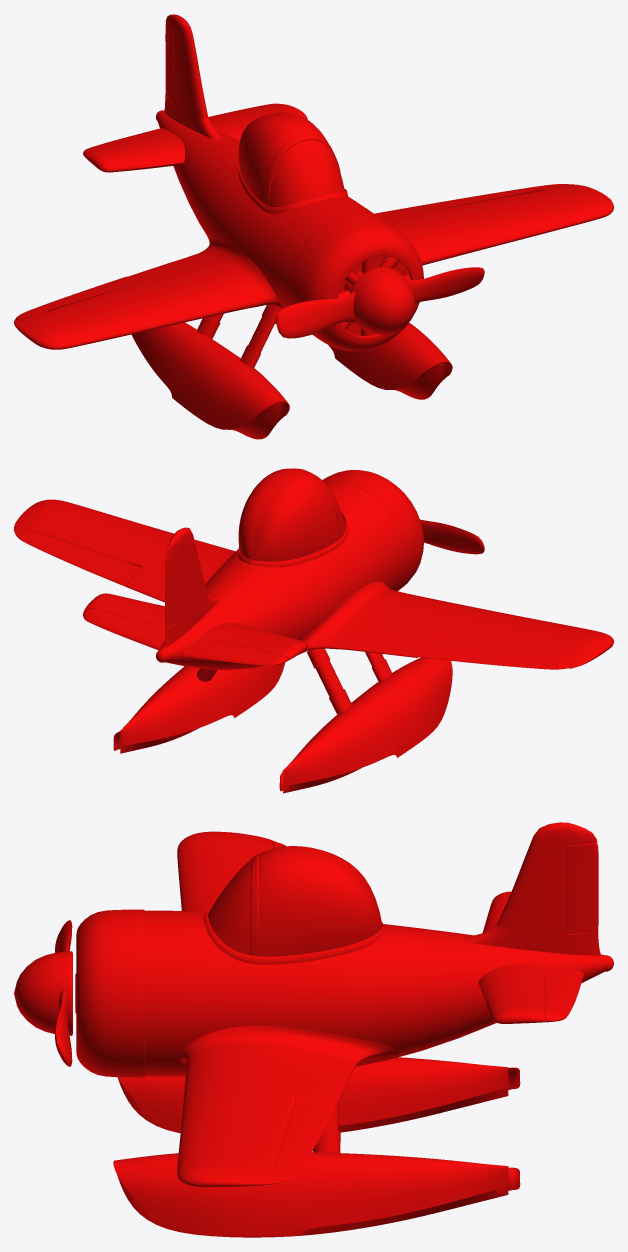
3 views of the same model, one above another, from view 1: azimuth 30°, elevation 25°; view 2: azimuth 150°, elevation 25°; view 3: azimuth 270°, elevation 25° (orthographic). The views are drawn at different scales.
Visible parts, largest first — view 1: Body, propeller1, canopi, aileron_R, aileron_L, rudder; view 2: Body, canopi, aileron_R, aileron_L, propeller1, tail_L1, tail_L, rudder; view 3: Body, canopi, propeller1, rudder, aileron_L, tail_L.
Part boxes in pixels (x1,y1,x2,y2): Body: (14, 14, 613, 439); propeller1: (276, 266, 484, 338); canopi: (238, 112, 344, 206); aileron_R: (15, 276, 141, 320); aileron_L: (417, 184, 571, 210); rudder: (165, 24, 173, 103); Body: (14, 468, 613, 793); canopi: (238, 468, 346, 561); aileron_R: (417, 637, 573, 669); aileron_L: (15, 528, 141, 586); propeller1: (420, 519, 484, 554); tail_L1: (203, 640, 288, 665); tail_L: (83, 608, 156, 643); rudder: (165, 549, 181, 628); Body: (75, 822, 613, 1237); canopi: (208, 846, 382, 956); propeller1: (14, 920, 72, 1066); rudder: (567, 843, 598, 933); aileron_L: (273, 1099, 334, 1181); tail_L: (545, 975, 580, 1022).
Bounding box in the file's own units: 9.98 × 4.85 × 7.21.
